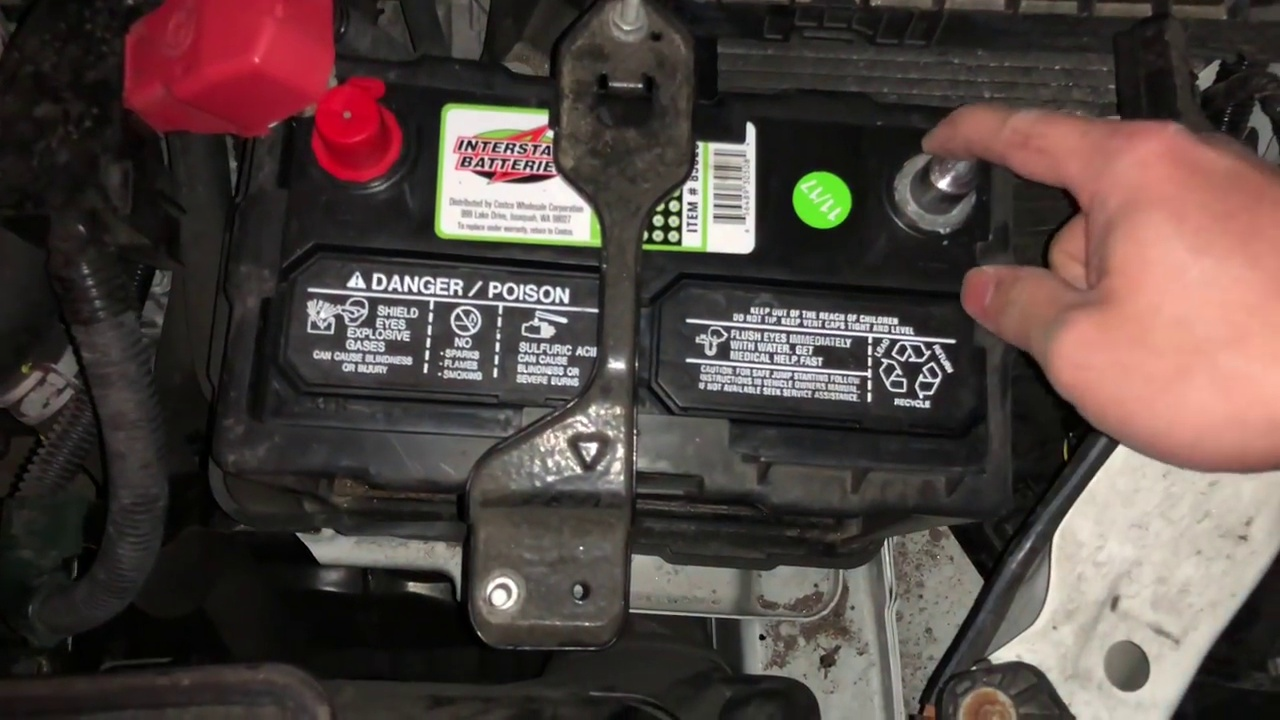battery: (239, 103, 980, 465)
neg_touched: (873, 87, 1106, 332)
pos_disconnected: (162, 12, 411, 197)
